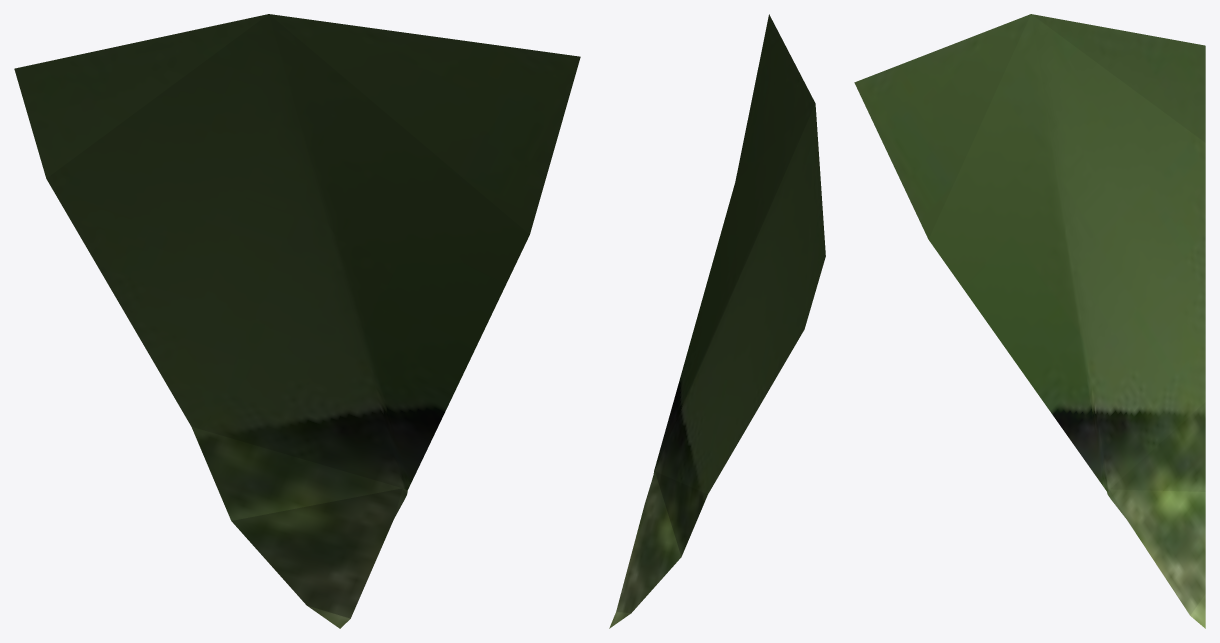
3 renders of one model, left to right at view 1: azimuth 30°, elevation 25°; view 2: azimuth 150°, elevation 25°; view 3: azimuth 270°, elevation 25°, orthographic. The views are drawn at different scales.
Bounding box in the file's own units: 5.33 × 11.71 × 6.81.
Materials: 1 (1 with a texture image).
